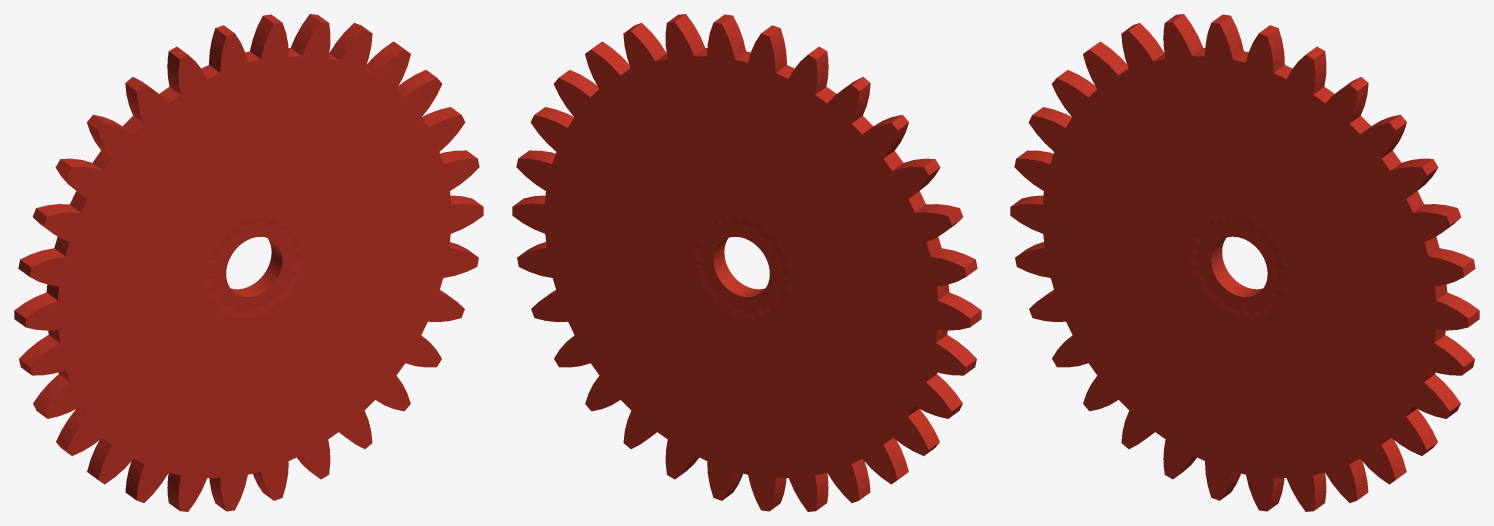
Rendered from gear.obj.
The picture shows the model from 3 angles, left to right: view 1: azimuth 30°, elevation 25°; view 2: azimuth 150°, elevation 25°; view 3: azimuth 330°, elevation 25°; orthographic projection.
Size of the model in its own units: 0.1222 by 0.1217 by 0.00525.
